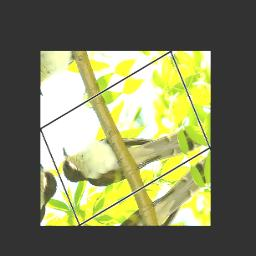Cuckoo: (54, 78, 205, 219)
